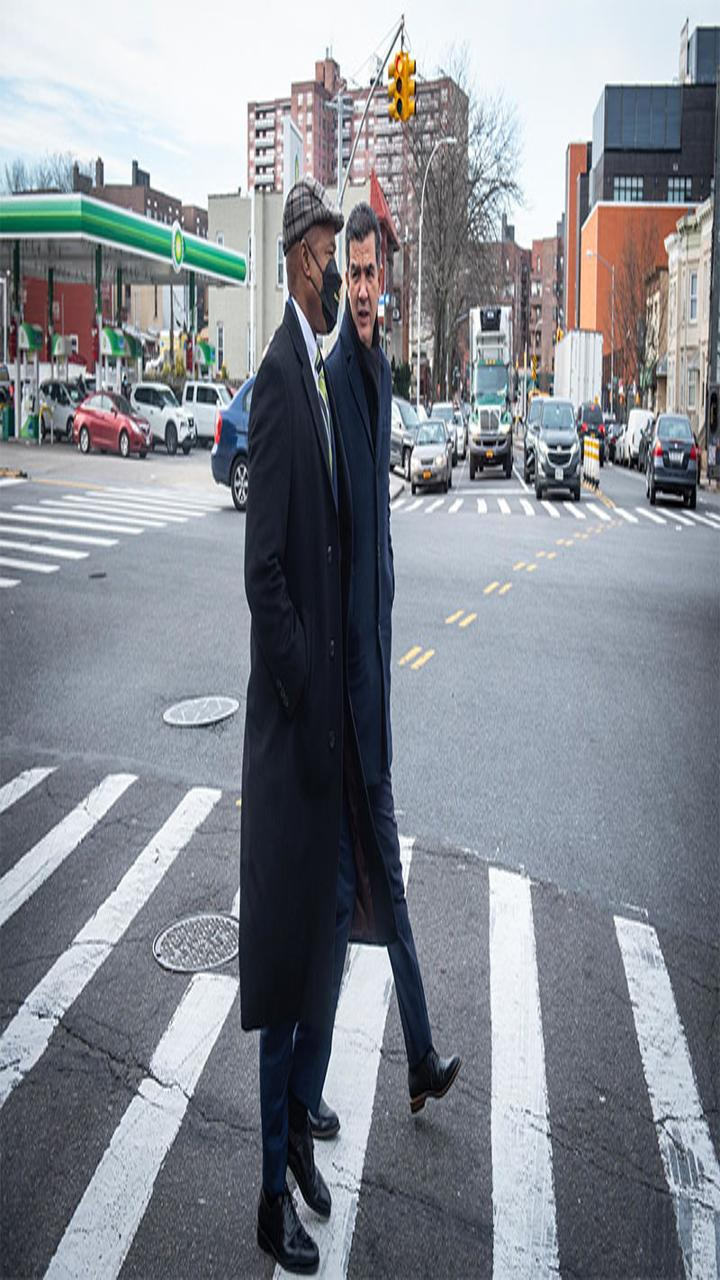pedestrian: (325, 174, 480, 1140), (244, 171, 355, 1277)
